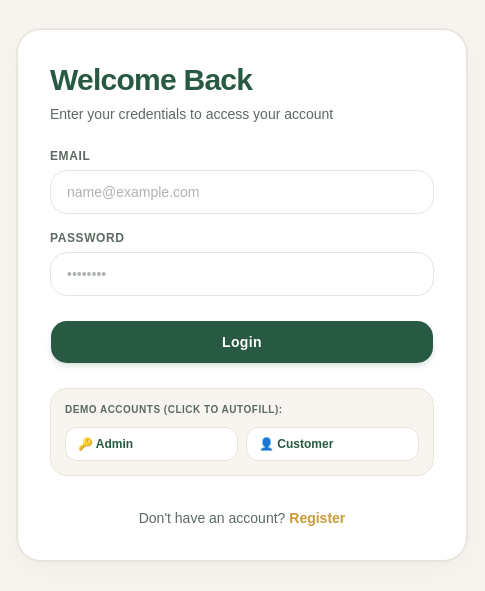
Scenario: Login Component › Validation › shows "Invalid email" for invalid email format
The image size is (485, 591).
In the field labelled "Email": (242, 192) [50, 170, 434, 214], type "invalid-email"
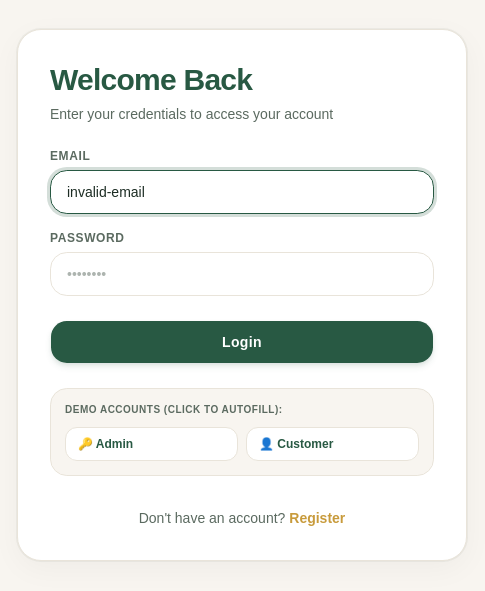
In the password field labelled "Password": (242, 274) [50, 252, 434, 296], type "password123"
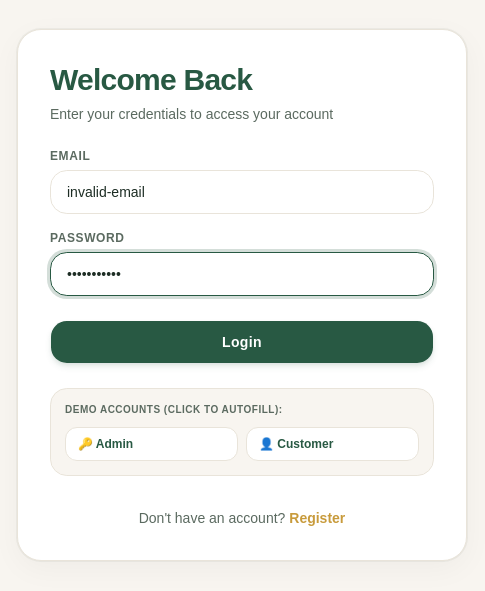
Click the button "Login": (242, 342) [50, 320, 434, 364]
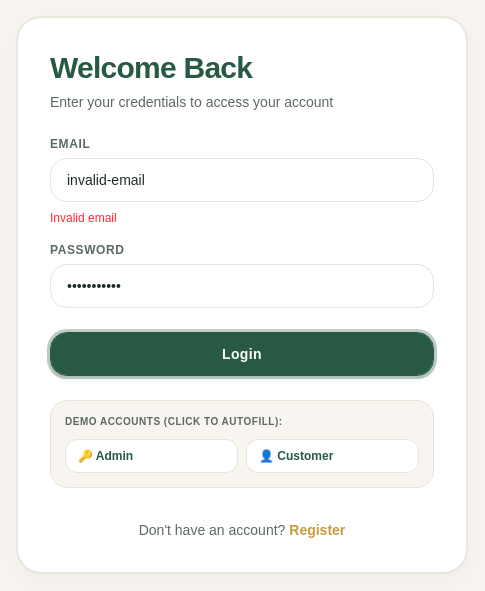
Expected: the text "Invalid email" is shown, [50, 211, 117, 225]
